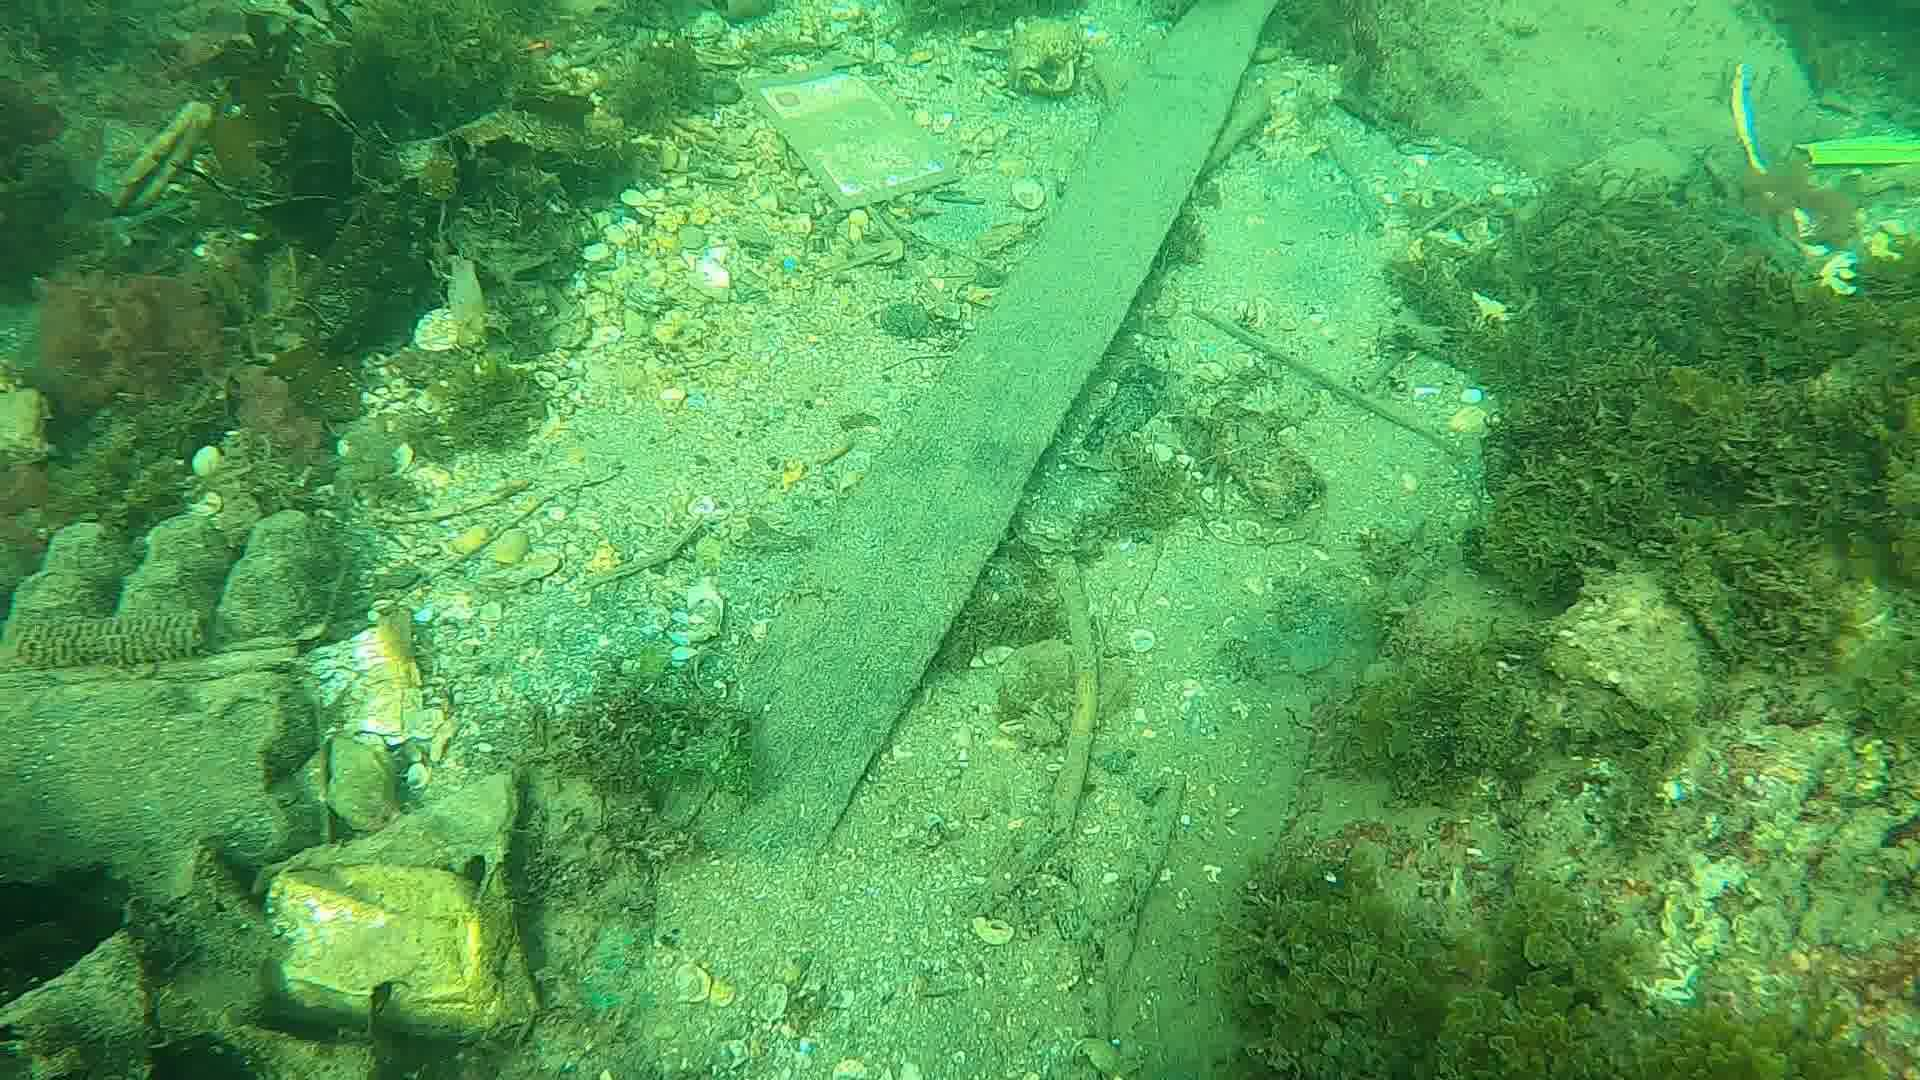wood: (655, 0, 1274, 862)
